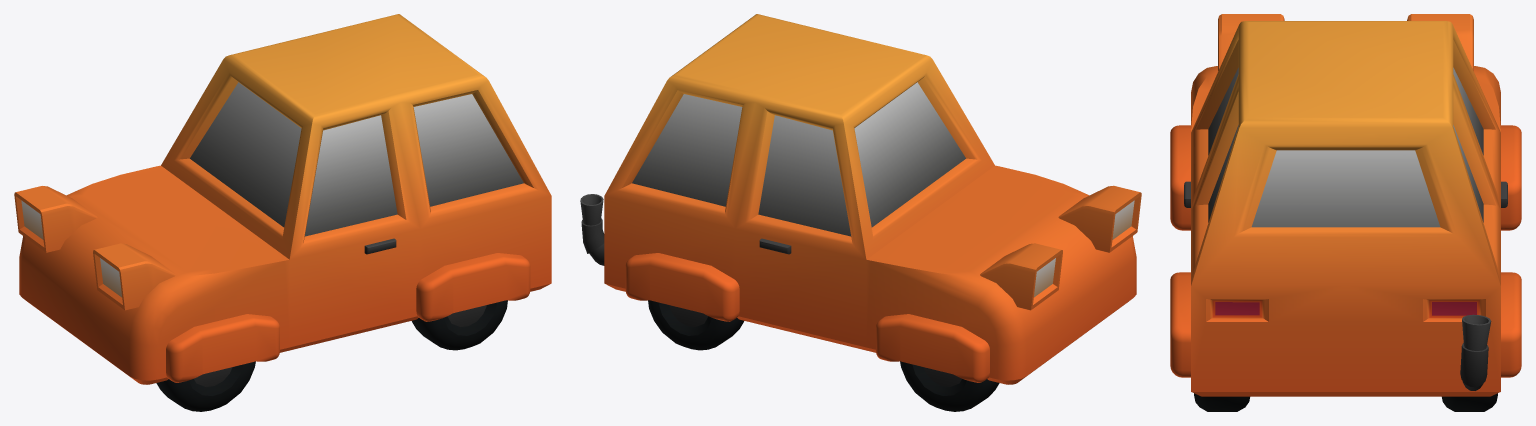
File: Orange_Vehicle.glb
The picture shows the model from 3 angles, left to right: view 1: azimuth 30°, elevation 25°; view 2: azimuth 150°, elevation 25°; view 3: azimuth 270°, elevation 25°; orthographic projection. The views are drawn at different scales.
Parts seen in each view (by area): view 1: Car, FrontLeftWheel, BackWheels; view 2: Car, FrontRightWheel, BackWheels; view 3: Car, BackWheels.
Part boxes in pixels (left/top/right/bottom): Car: left=14, top=14, right=551, bottom=384; FrontLeftWheel: left=156, top=361, right=255, bottom=411; BackWheels: left=412, top=300, right=507, bottom=350; Car: left=580, top=14, right=1141, bottom=384; FrontRightWheel: left=900, top=361, right=999, bottom=411; BackWheels: left=648, top=300, right=743, bottom=350; Car: left=1170, top=14, right=1521, bottom=396; BackWheels: left=1194, top=393, right=1497, bottom=411.
Bounding box in the file's own units: 1.29 × 0.7036 × 0.7225.
1 material, 1 textured.
